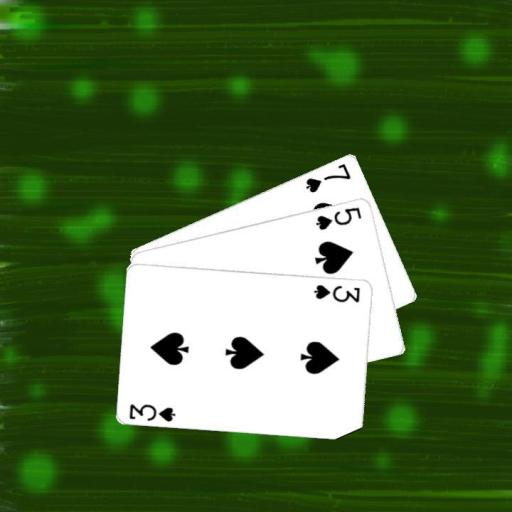3S: (311, 281, 362, 304), (126, 401, 177, 423)
5S: (313, 203, 363, 231)
7S: (303, 159, 352, 194)
